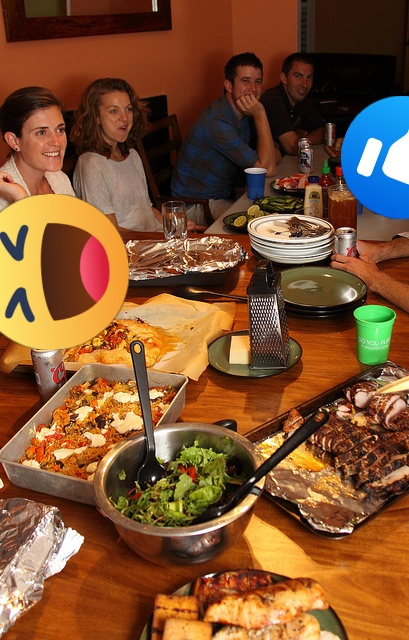haha: (0, 194, 129, 350)
like: (341, 96, 409, 219)
